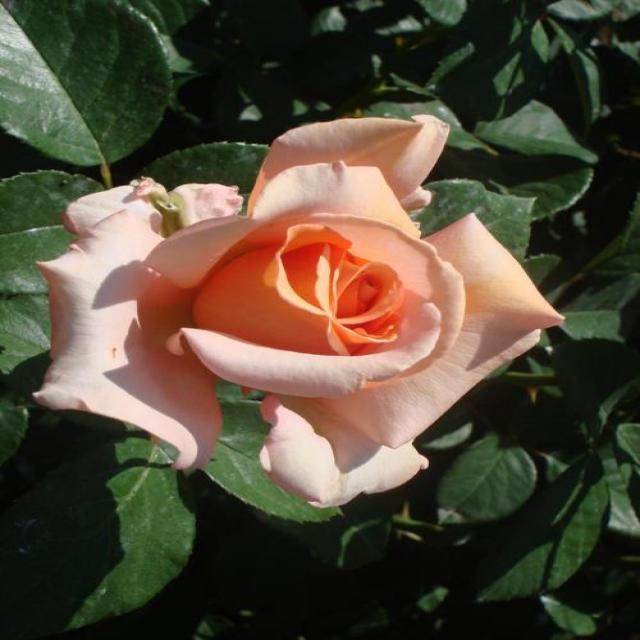rose: (33, 127, 574, 498)
